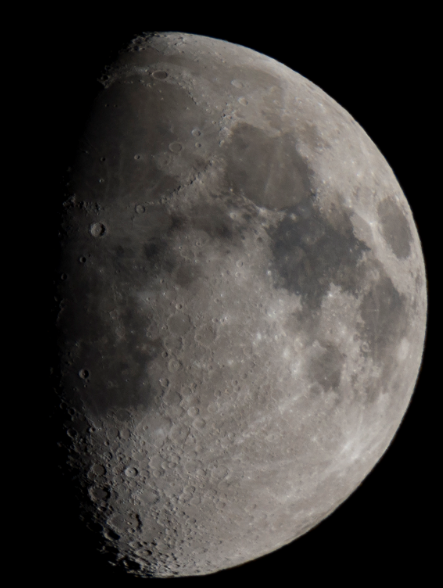crater: (310, 413, 372, 468), (158, 300, 195, 338), (77, 215, 115, 239), (161, 131, 188, 159), (144, 64, 178, 84), (73, 359, 96, 383), (129, 198, 149, 218), (186, 120, 205, 139), (163, 356, 184, 372), (124, 463, 146, 476), (140, 420, 157, 436), (211, 383, 225, 400), (229, 270, 246, 284)
